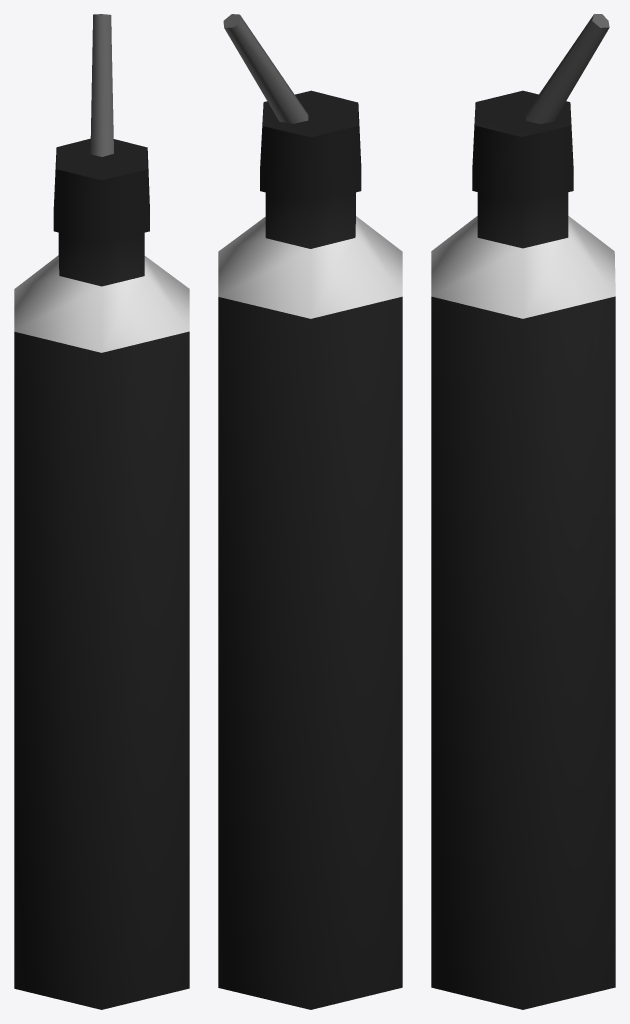
File: shop_006.glb
3 views of the same model, side by side, from view 1: azimuth 30°, elevation 25°; view 2: azimuth 150°, elevation 25°; view 3: azimuth 270°, elevation 25° (orthographic). The views are drawn at different scales.
Visible parts, largest first — view 1: shop_006; view 2: shop_006; view 3: shop_006.
Part boxes in pixels (bbox=[...]): shop_006: bbox=[14, 14, 189, 1009]; shop_006: bbox=[218, 14, 402, 1009]; shop_006: bbox=[431, 14, 615, 1009].
Size of the model in its own units: 0.0612 by 0.3068 by 0.053.
Materials: 1 (1 with a texture image).
